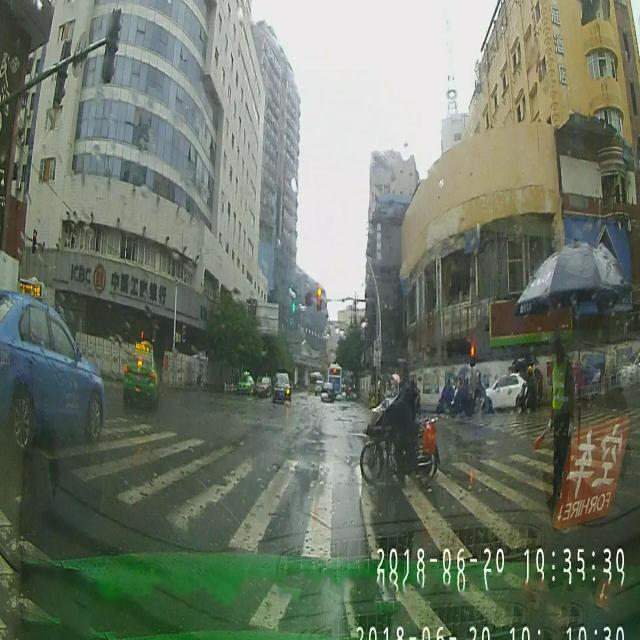car: (0, 275, 103, 446), (124, 338, 160, 414), (482, 372, 530, 410), (272, 372, 290, 404), (238, 368, 254, 399), (255, 372, 273, 399), (322, 378, 334, 404), (314, 378, 320, 396)
